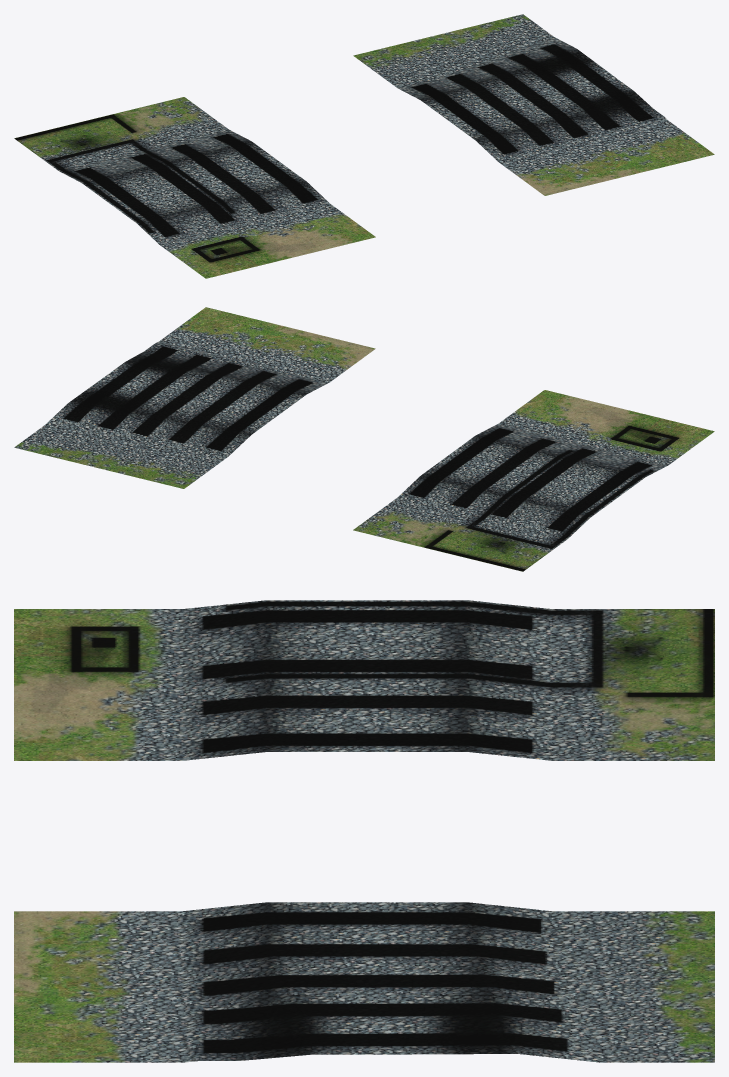
3 views of the same model, one above another, from view 1: azimuth 30°, elevation 25°; view 2: azimuth 150°, elevation 25°; view 3: azimuth 270°, elevation 25° (orthographic). The views are drawn at different scales.
Parts seen in each view (by area): view 1: pl3; view 2: pl3; view 3: pl3.
Boxes of the visible parts, x1=… form: pl3: x1=14, y1=14, x2=714, y2=278; pl3: x1=14, y1=307, x2=714, y2=571; pl3: x1=14, y1=600, x2=714, y2=1062.
Bounding box in the file's own units: 8.89 × 0.0806 × 5.81.
